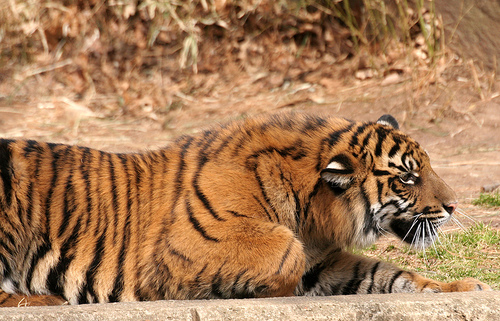Tigre: (1, 110, 486, 300)
